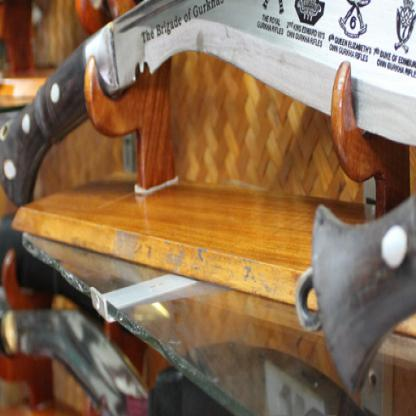knife: (0, 0, 415, 209)
